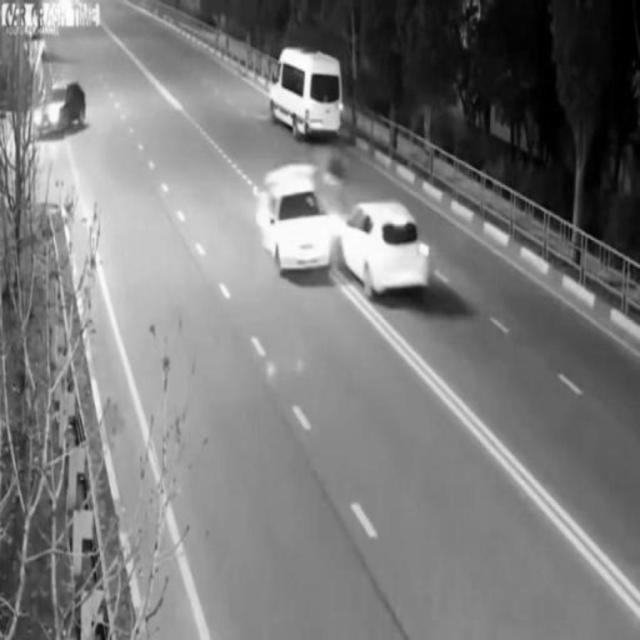accident: (258, 175, 432, 295)
vehicle: (269, 50, 343, 133), (31, 78, 87, 134)
